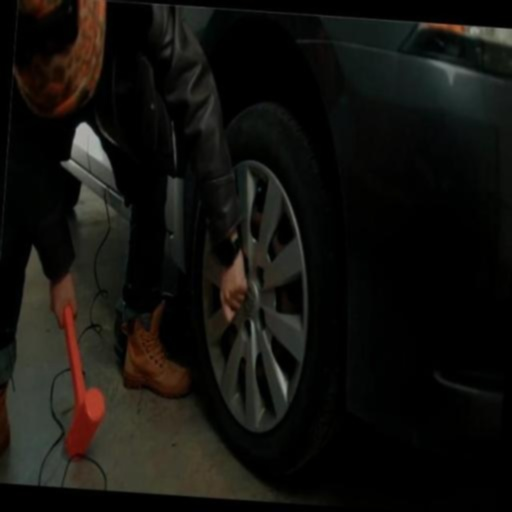mallet: (52, 304, 113, 459)
